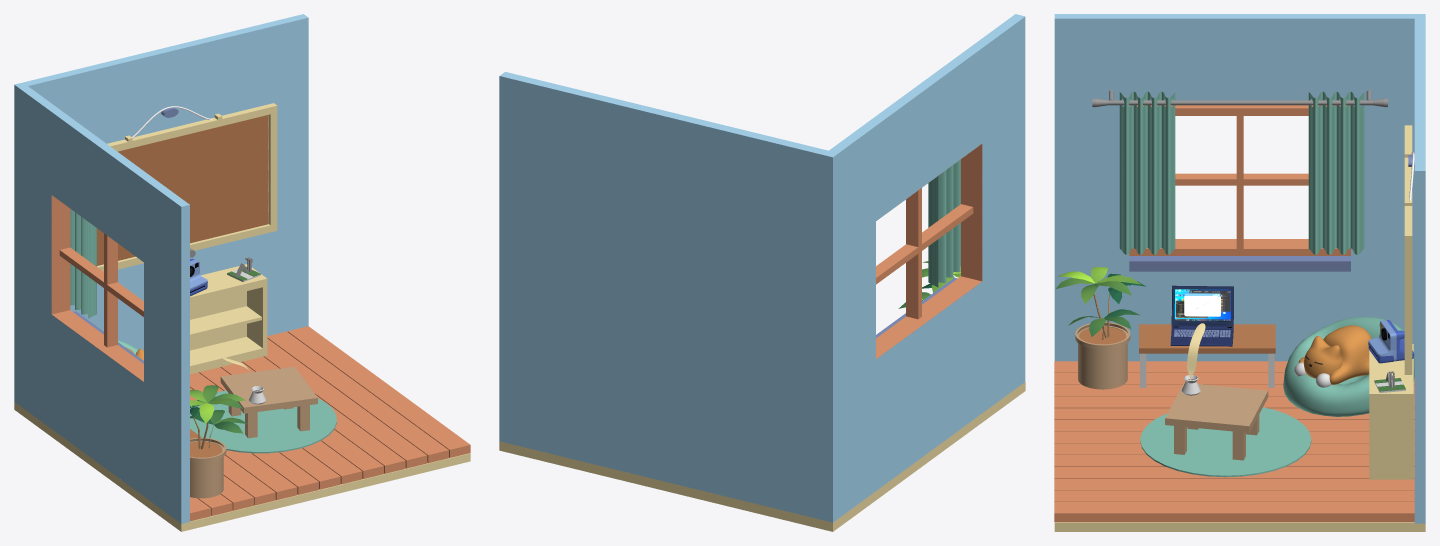
3 views of the same model, side by side, from view 1: azimuth 30°, elevation 25°; view 2: azimuth 150°, elevation 25°; view 3: azimuth 270°, elevation 25° (orthographic). The views are drawn at different scales.
Parts seen in each view (by area): view 1: wall, floor_wood, dashboard, shelf, carpet, floor, plant, table, curtain; view 2: wall, floor, curtain; view 3: wall, floor_wood, curtain, carpet, plant, shelf, table, cushion, floor, cat, table2, dashboard (+6 smaller).
Boxes of the visible parts, x1=… form: wall: x1=14, y1=14, x2=308, y2=523; floor_wood: x1=190, y1=326, x2=470, y2=521; dashboard: x1=97, y1=103, x2=277, y2=271; shelf: x1=190, y1=264, x2=267, y2=374; carpet: x1=190, y1=390, x2=336, y2=453; floor: x1=14, y1=402, x2=470, y2=531; plant: x1=190, y1=385, x2=247, y2=498; table: x1=220, y1=366, x2=317, y2=438; curtain: x1=70, y1=209, x2=96, y2=318; wall: x1=499, y1=14, x2=1025, y2=522; floor: x1=499, y1=382, x2=1025, y2=531; curtain: x1=928, y1=159, x2=960, y2=287; wall: x1=1054, y1=14, x2=1425, y2=523; floor_wood: x1=1054, y1=361, x2=1414, y2=522; curtain: x1=1119, y1=91, x2=1364, y2=254; carpet: x1=1140, y1=407, x2=1311, y2=477; plant: x1=1056, y1=267, x2=1145, y2=389; shelf: x1=1369, y1=344, x2=1413, y2=479; table: x1=1165, y1=382, x2=1268, y2=460; cushion: x1=1283, y1=316, x2=1414, y2=416; floor: x1=1054, y1=522, x2=1425, y2=531; cat: x1=1294, y1=325, x2=1371, y2=387; table2: x1=1139, y1=324, x2=1275, y2=387; dashboard: x1=1404, y1=125, x2=1414, y2=374.
Size of the model in its own units: 2.2 by 2.36 by 2.2.
15 materials, 9 textured.
